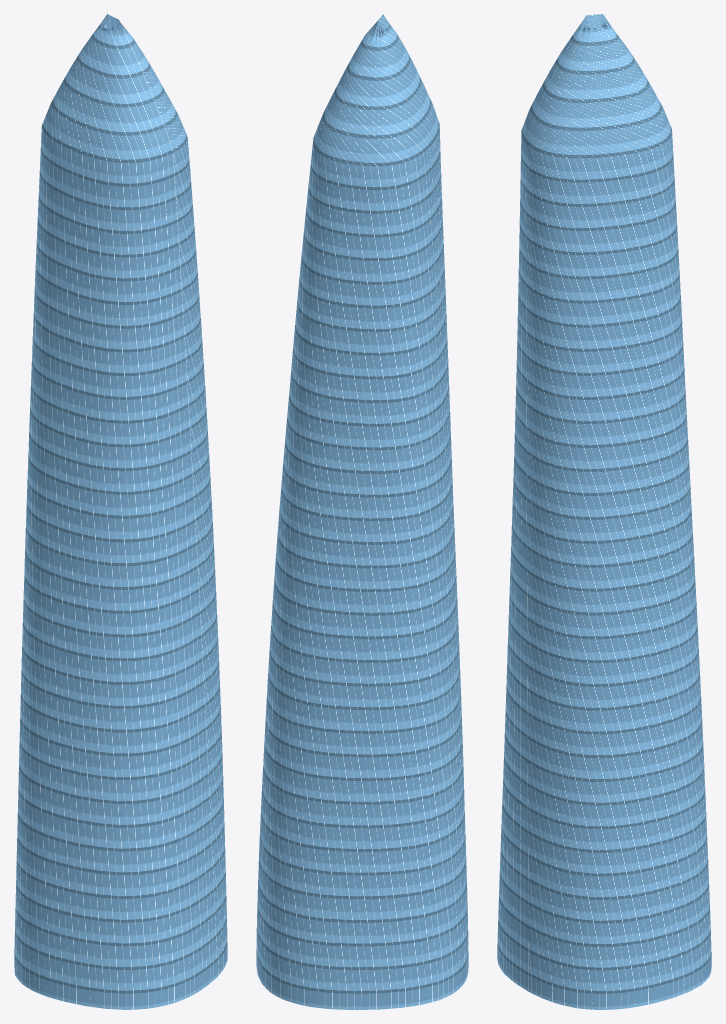
File: landmark-socar-tower.glb
3 renders of one model, left to right at view 1: azimuth 30°, elevation 25°; view 2: azimuth 150°, elevation 25°; view 3: azimuth 270°, elevation 25°, orthographic.
Parts seen in each view (by area): view 1: socar-tower; view 2: socar-tower; view 3: socar-tower.
Boxes of the visible parts, x1,y1,x2,y2 form: socar-tower: (14, 14, 227, 1009); socar-tower: (256, 14, 468, 1009); socar-tower: (497, 14, 711, 1009).
Bounding box in the file's own units: 44.49 × 213 × 43.73.
Materials: 1 (1 with a texture image).
